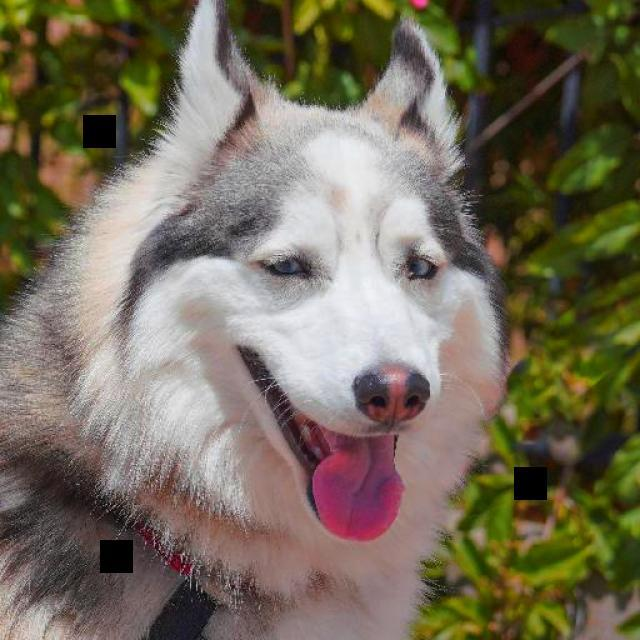adult_dog: (1, 3, 515, 640)
